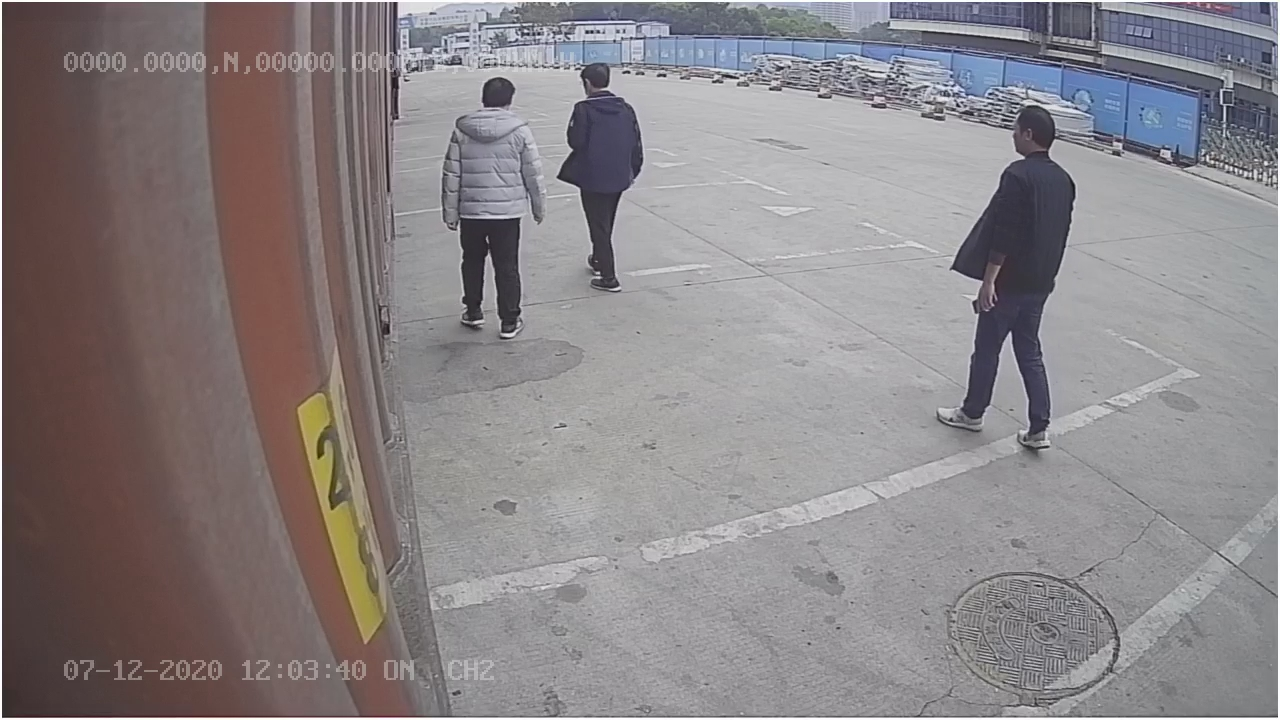person: (936, 93, 1077, 454), (436, 67, 547, 343), (560, 63, 646, 297)
